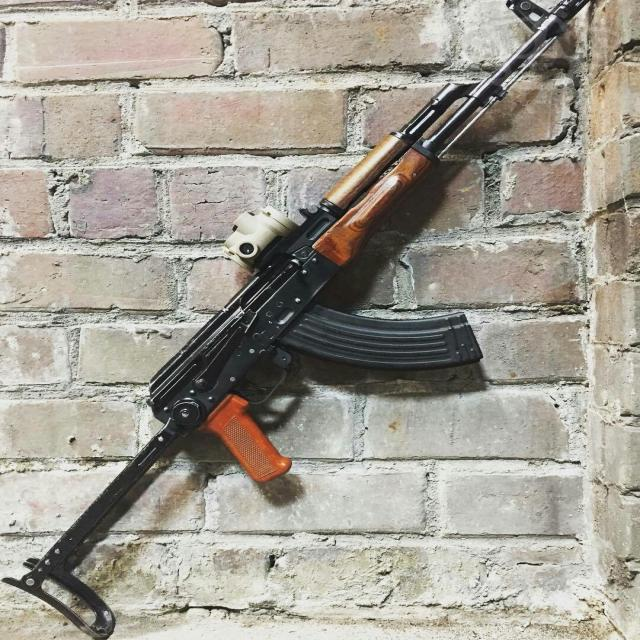ak: (0, 1, 608, 640)
